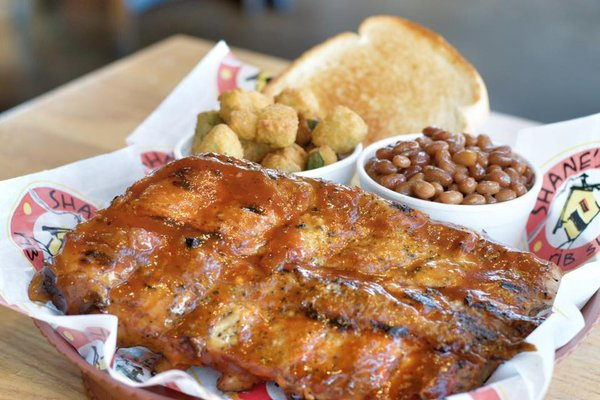sushi: (240, 14, 493, 186), (355, 126, 540, 249)
